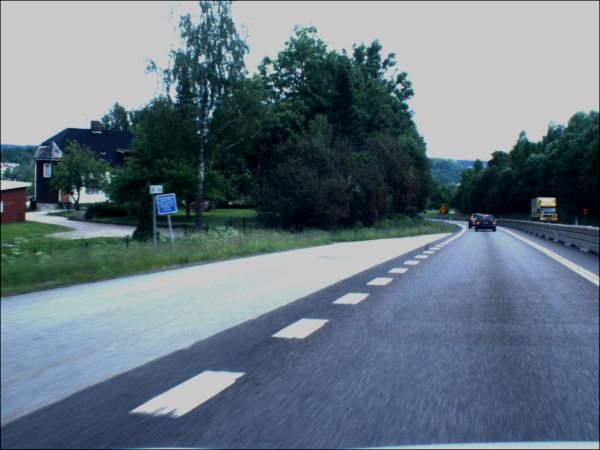80_SIGN: (582, 210, 590, 218), (440, 207, 447, 214)
